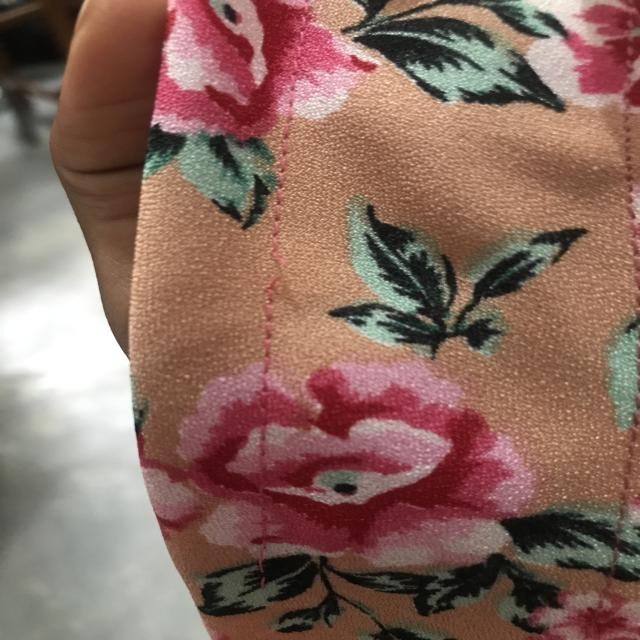broken: (256, 235, 298, 306)
